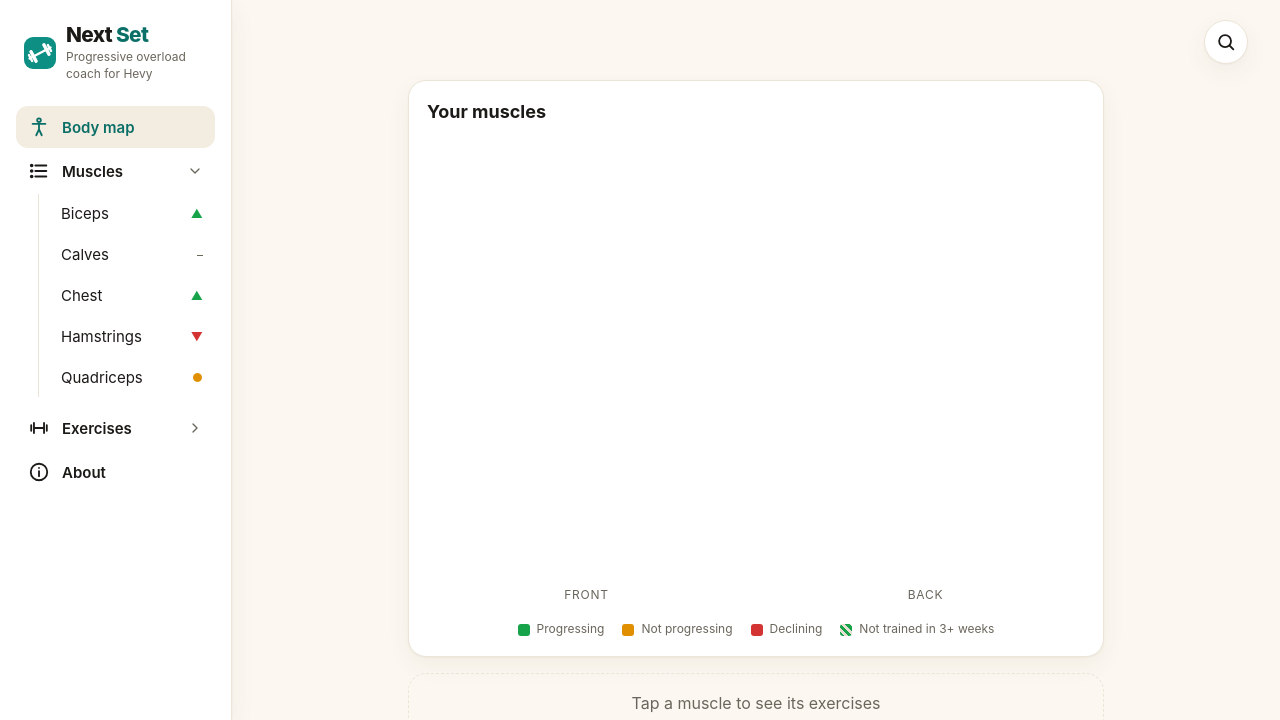
Test case: sidebar navigation › expands Exercises to list them grouped by muscle, and collapses again
Click the button "Exercises" at (116, 428), box [16,408,215,450]
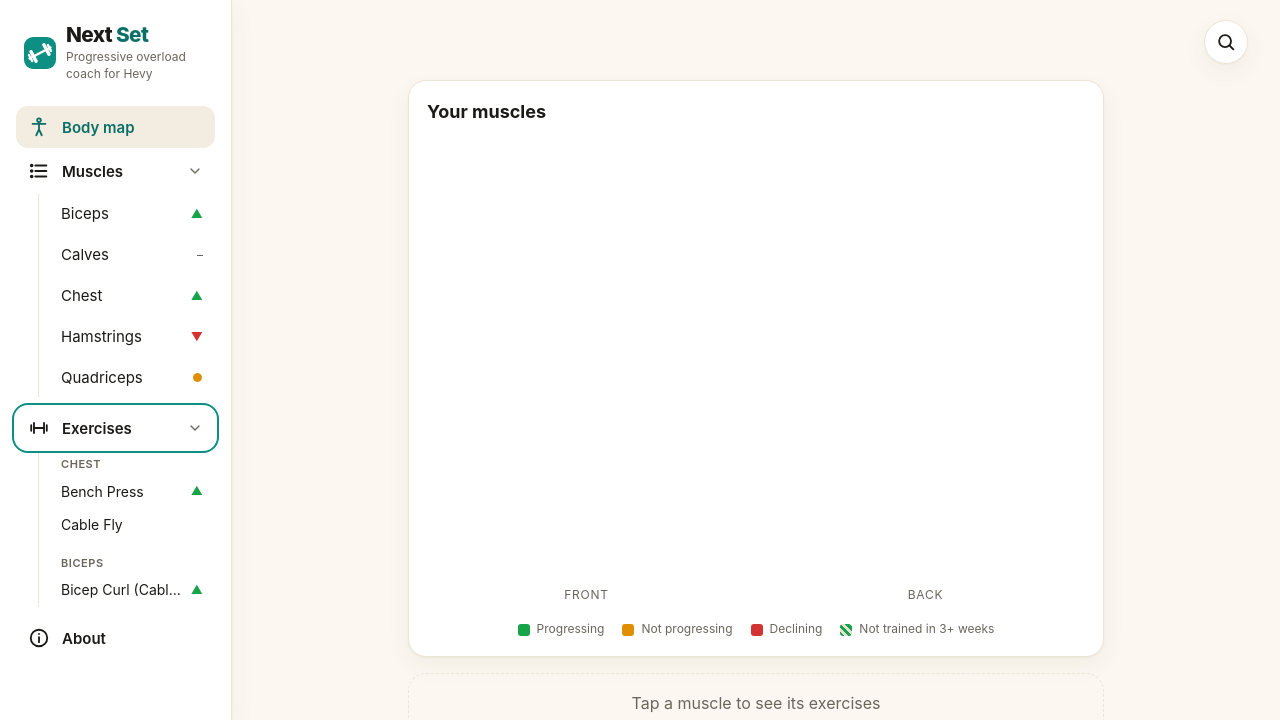
Now the button "Exercises" is expanded
Now the 2nd text "Chest" is shown, box [61,458,101,472]
Click the button "Exercises" at (116, 428), box [16,408,215,450]
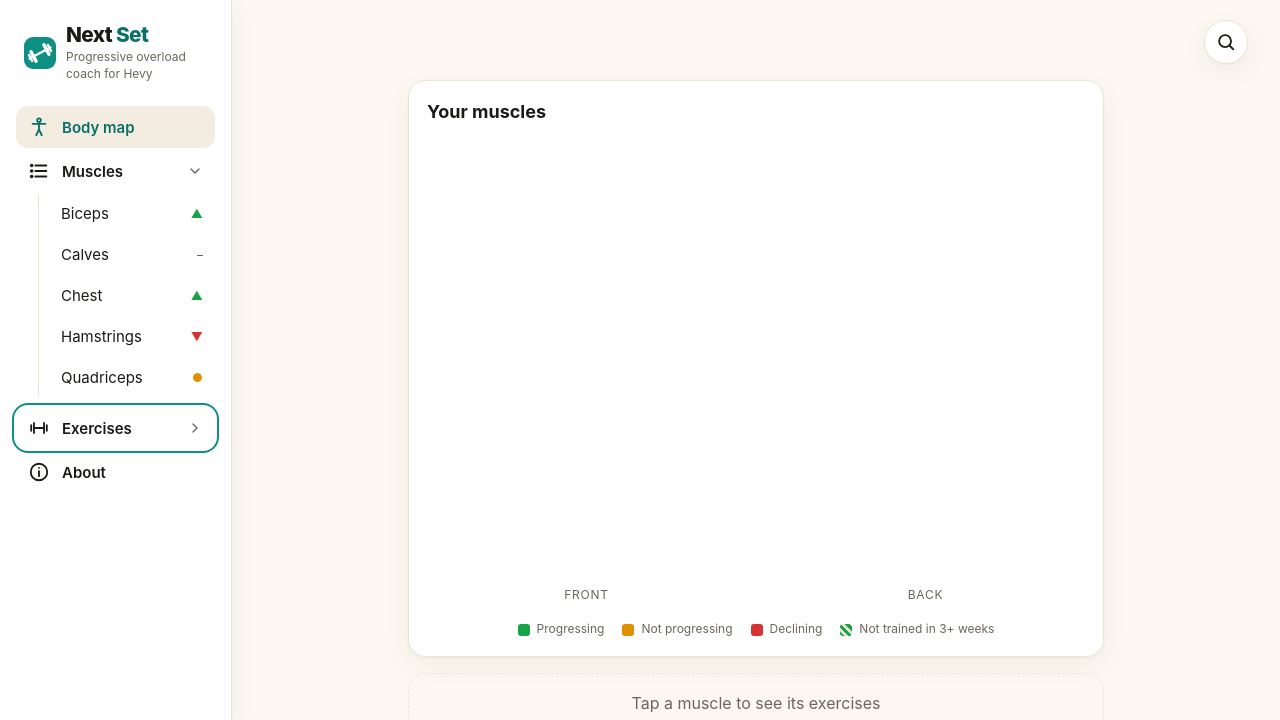
Now the link "Bench Press" is gone
